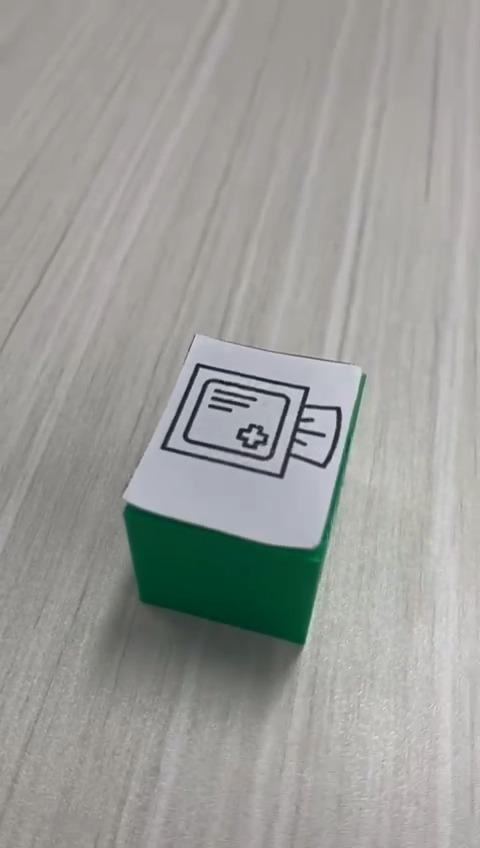Gauze: (120, 331, 367, 646)
